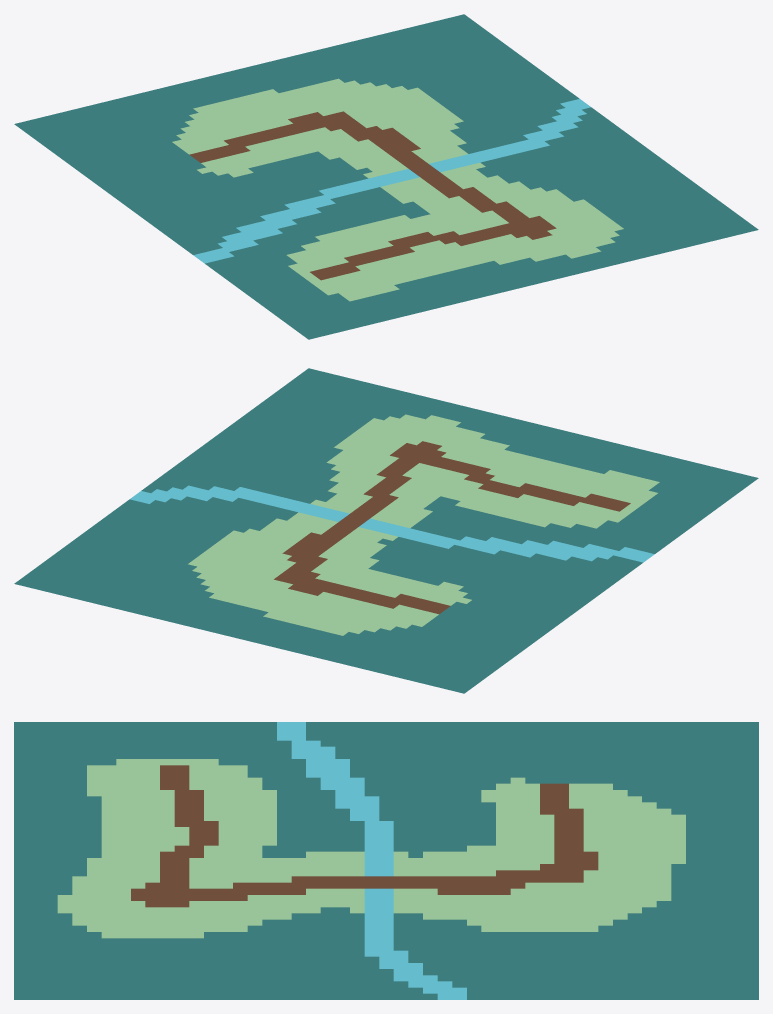
Rendered from intro.dae.
3 renders of one model, top to bottom at view 1: azimuth 30°, elevation 25°; view 2: azimuth 150°, elevation 25°; view 3: azimuth 270°, elevation 25°, orthographic. The views are drawn at different scales.
Visible parts, largest first — view 1: terrain; view 2: terrain; view 3: terrain.
Boxes of the visible parts, x1,y1,x2,y2 form: terrain: (14,14,758,339); terrain: (14,368,758,693); terrain: (14,722,758,999).
Size of what is drawn, in the model's own units: 9.84 by 11.16 by 2.43e-05.
